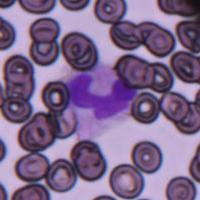N: (66, 63, 137, 134)
